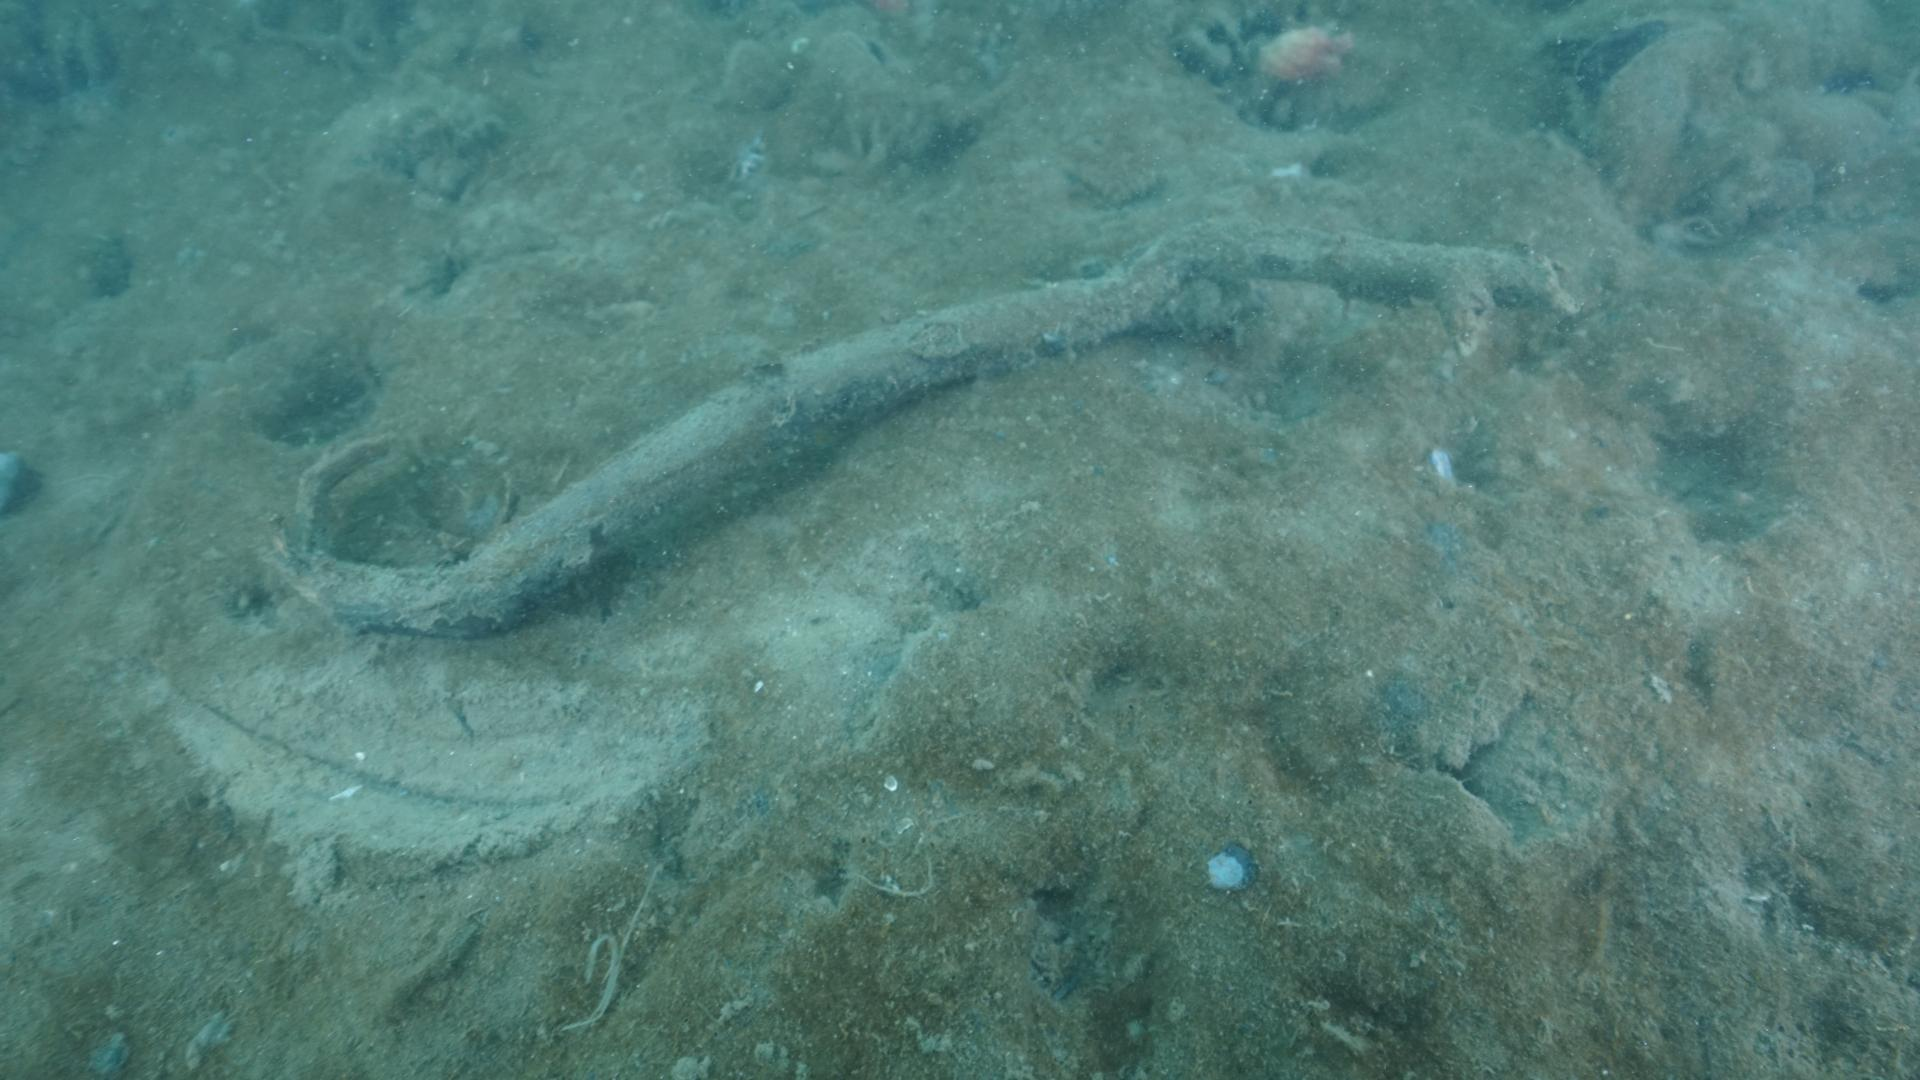wood: (265, 231, 1586, 646)
